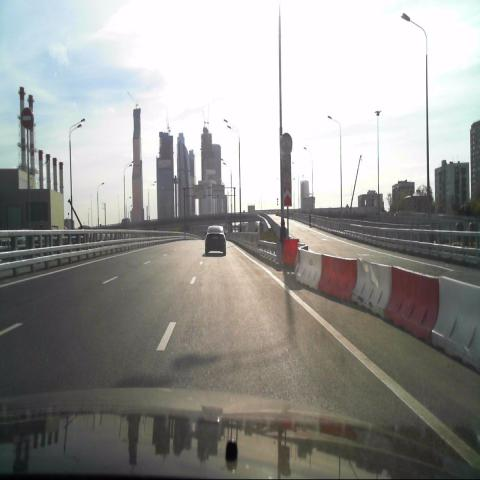3_1: (20, 106, 34, 128)
